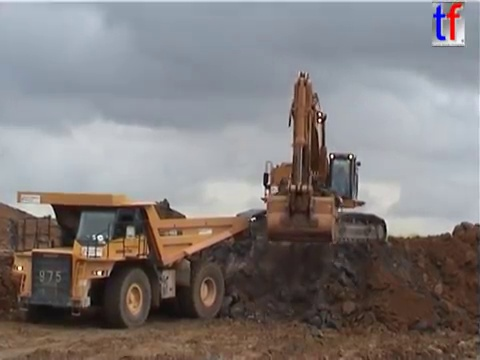excavator: (233, 68, 389, 251)
truck: (6, 189, 252, 330)
